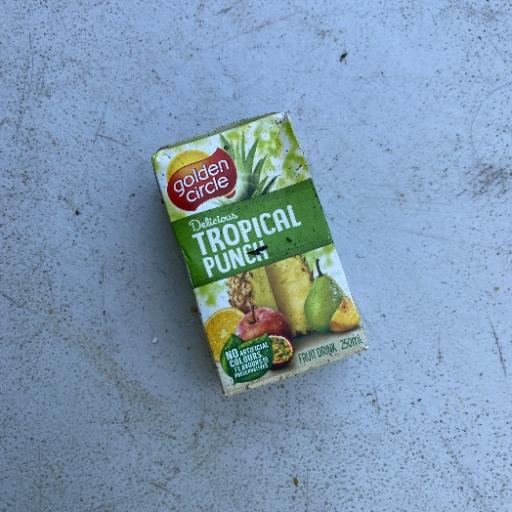Cardboard: (150, 110, 368, 398)
